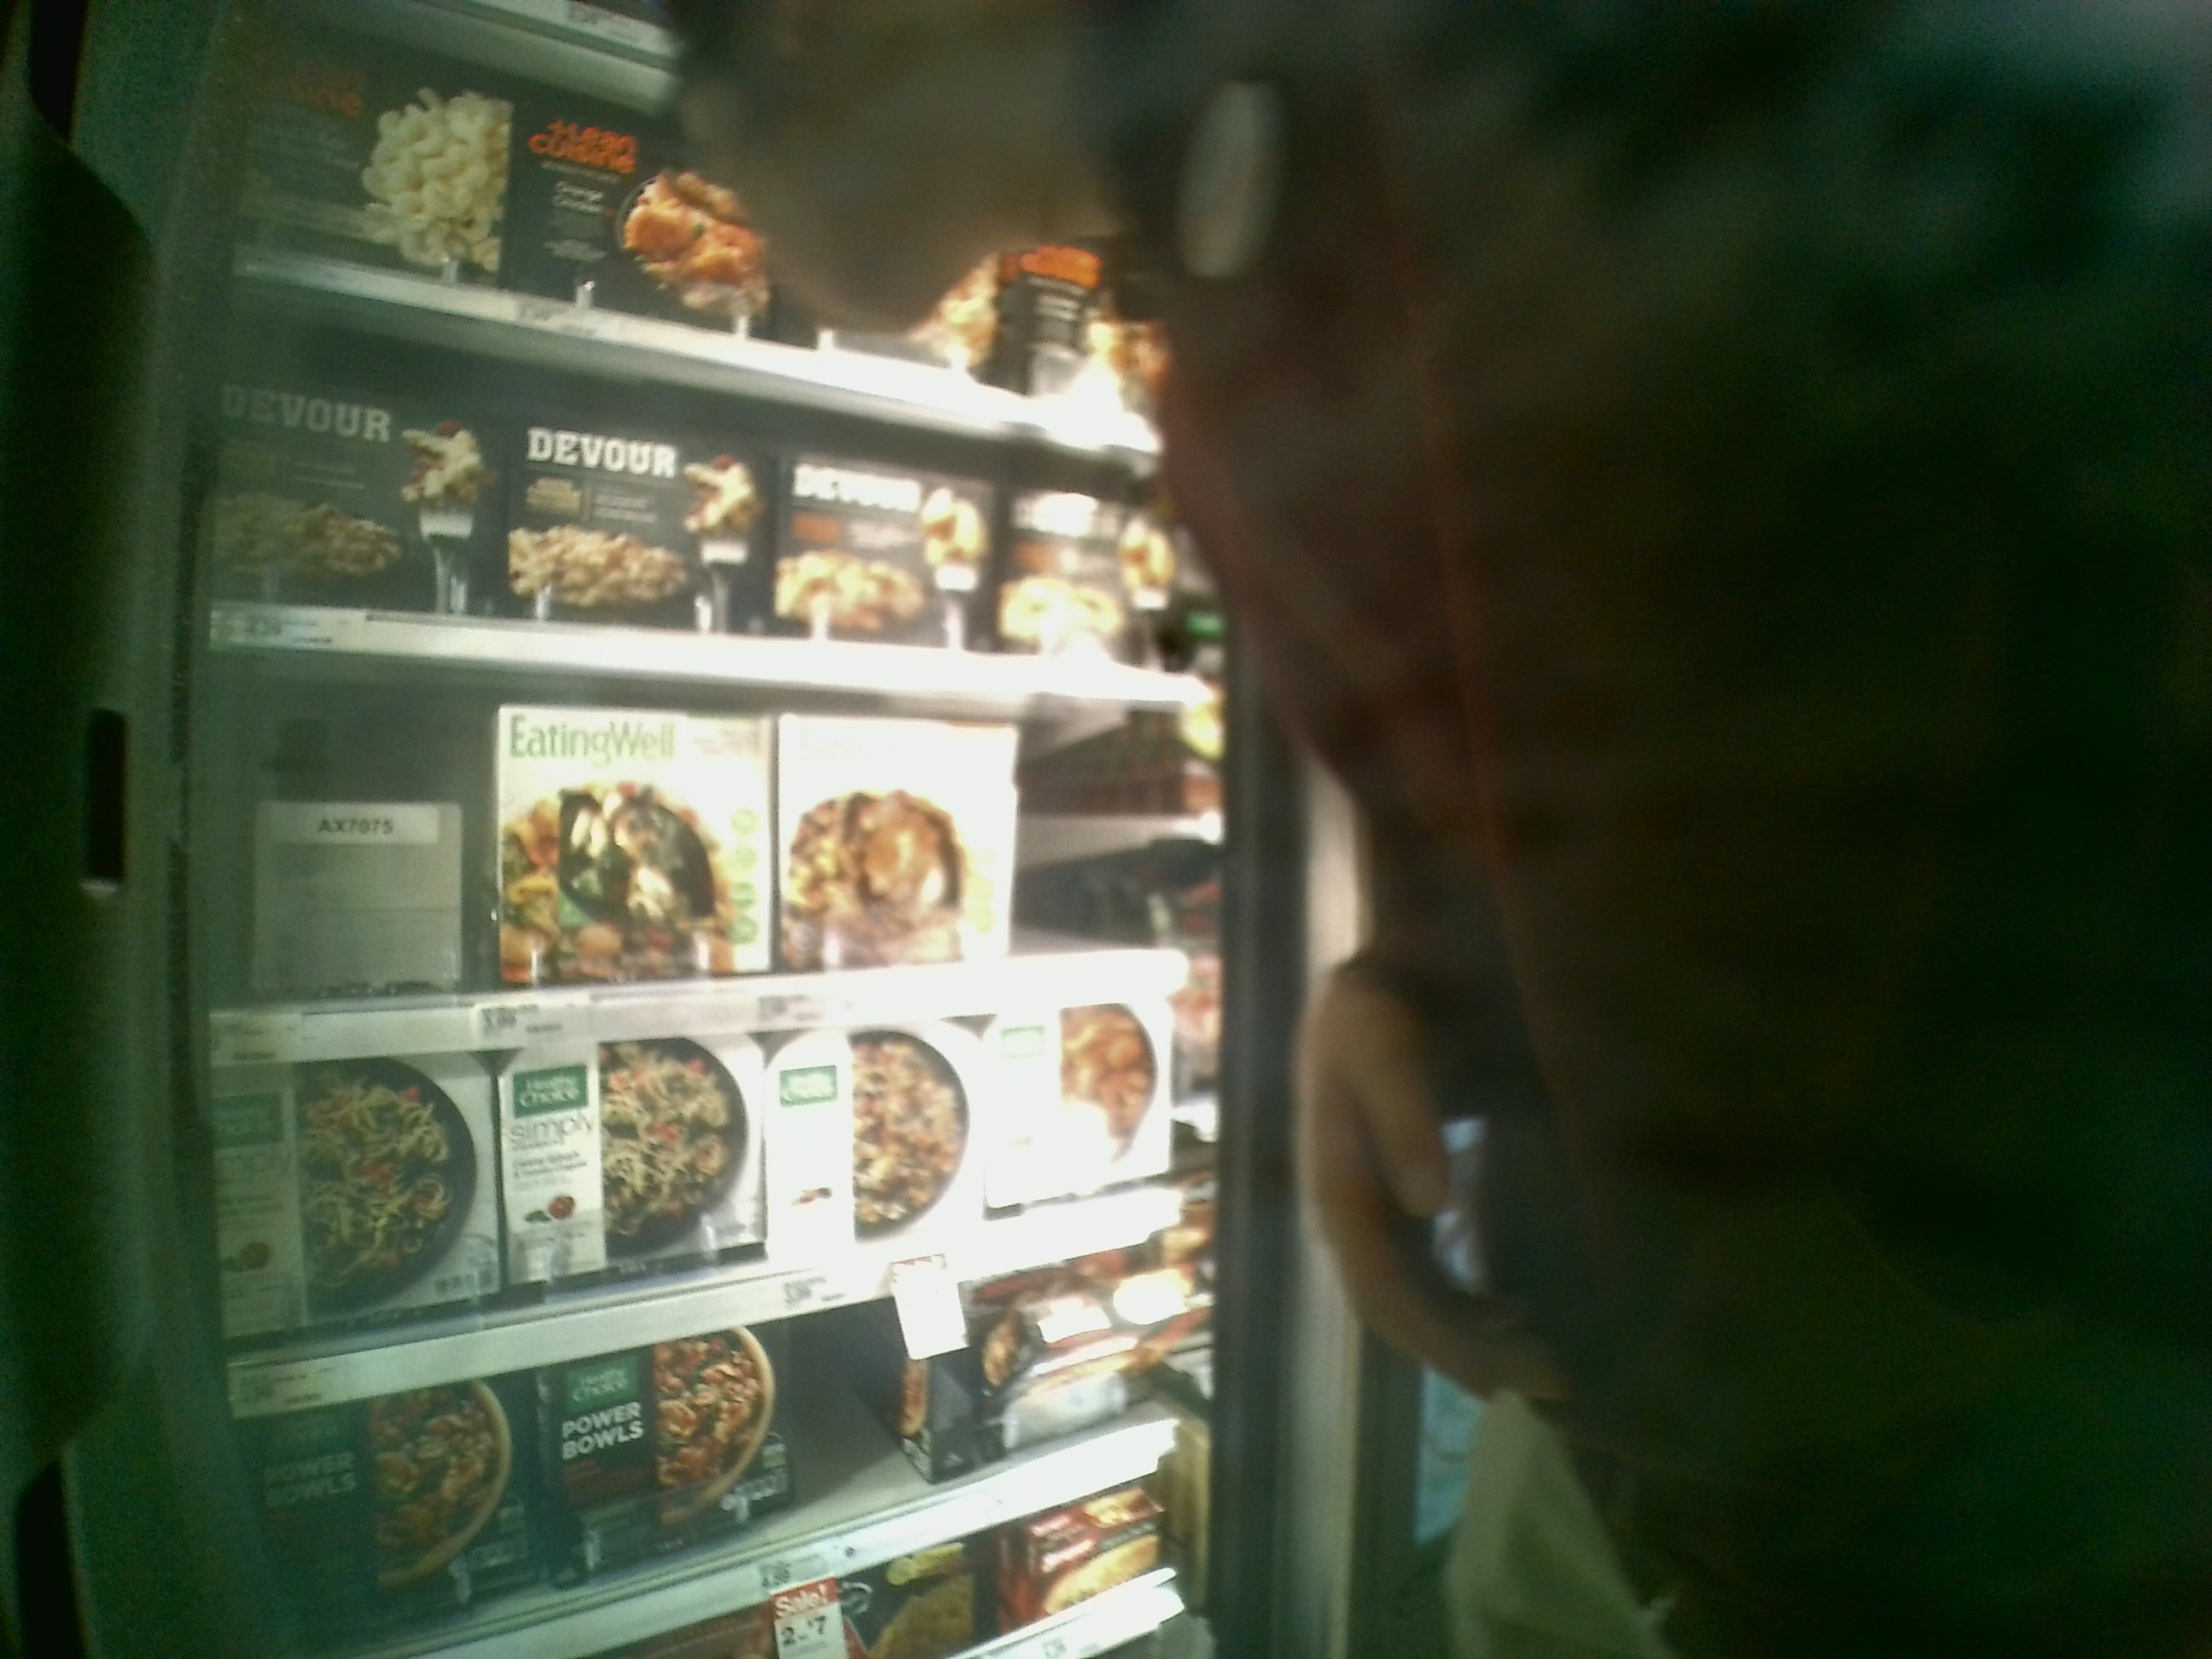pizza: (212, 1035, 496, 1321), (505, 708, 777, 979), (261, 1396, 545, 1636), (199, 380, 477, 617), (246, 44, 507, 284), (505, 1040, 761, 1279), (547, 1333, 803, 1572), (784, 714, 1017, 964), (496, 420, 758, 622), (768, 1023, 977, 1251), (979, 1009, 1179, 1211), (768, 458, 979, 648), (1000, 495, 1165, 657)
